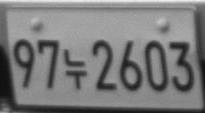0: (143, 39, 169, 91)
2: (91, 38, 117, 89)
3: (170, 40, 195, 93)
6: (118, 39, 143, 91)
7: (38, 39, 60, 88)
9: (12, 38, 35, 87)
누: (62, 48, 88, 90)
